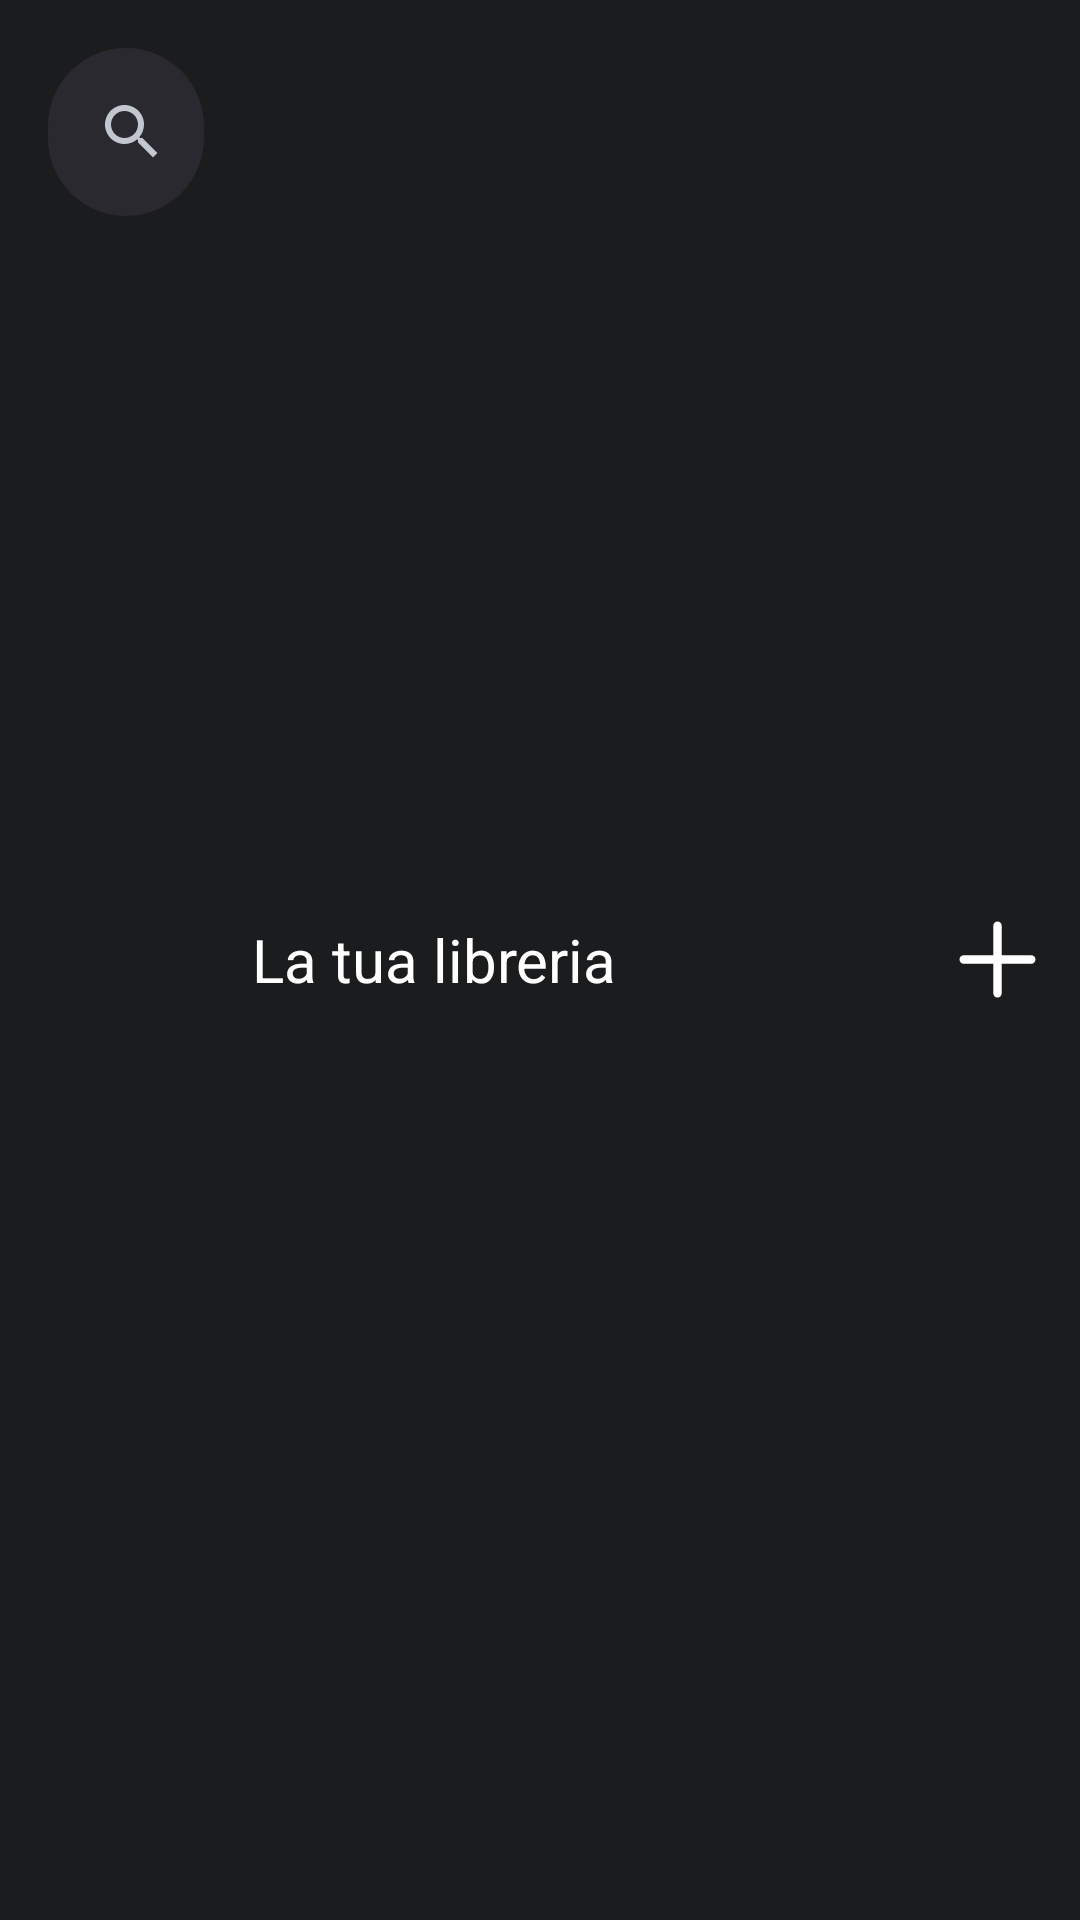

Locate icon controls on the screen. Image size 1080*1920, boxes as bbox=(x1, y1, x2, y2).
add: bbox=(959, 921, 1036, 998)
